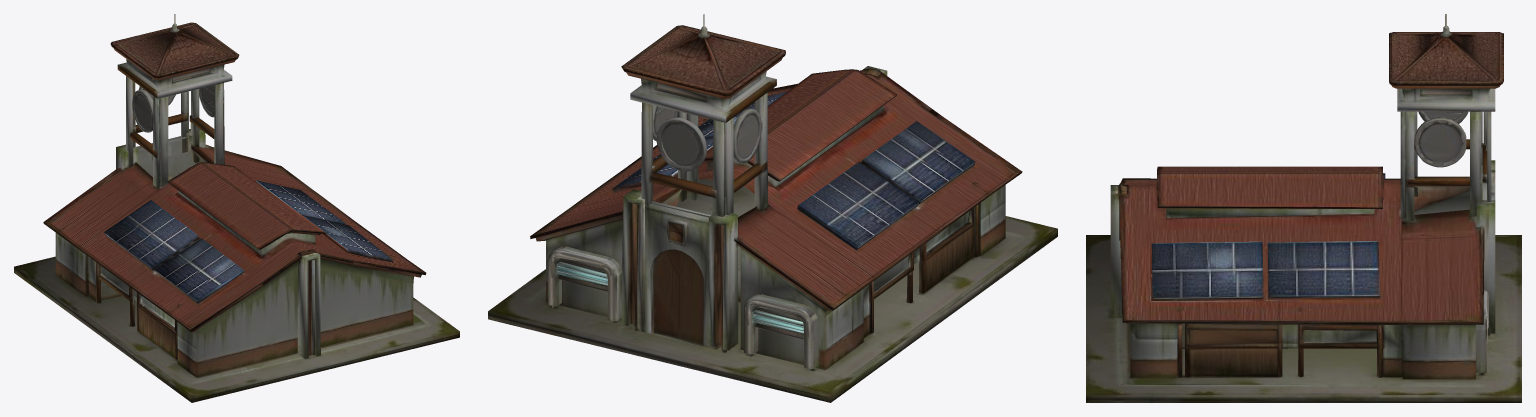
File: lm_ben_thanh.glb
3 views of the same model, side by side, from view 1: azimuth 30°, elevation 25°; view 2: azimuth 150°, elevation 25°; view 3: azimuth 270°, elevation 25° (orthographic). The views are drawn at different scales.
Parts seen in each view (by area): view 1: Body; view 2: Body; view 3: Body.
Part boxes in pixels (x1,y1,x2,y2): Body: (14,14,459,402); Body: (488,14,1057,402); Body: (1086,14,1521,402).
Size of the model in its own units: 30 by 26.76 by 34.45.
Materials: 1 (1 with a texture image).
